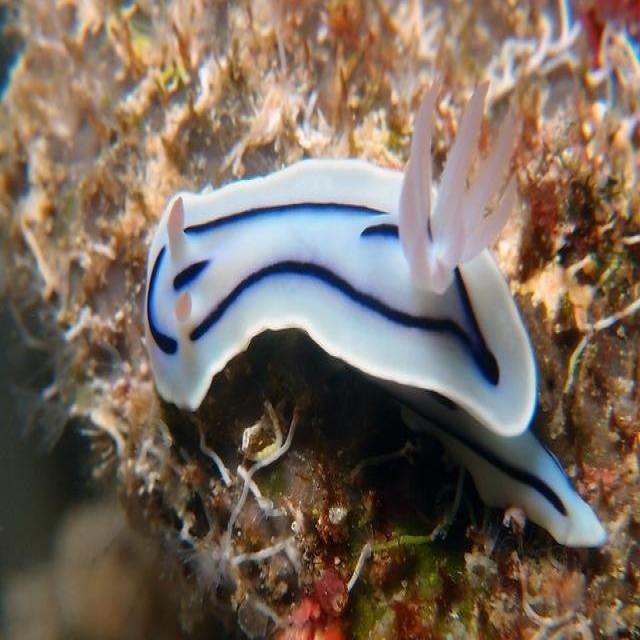reefs: (139, 80, 609, 548)
